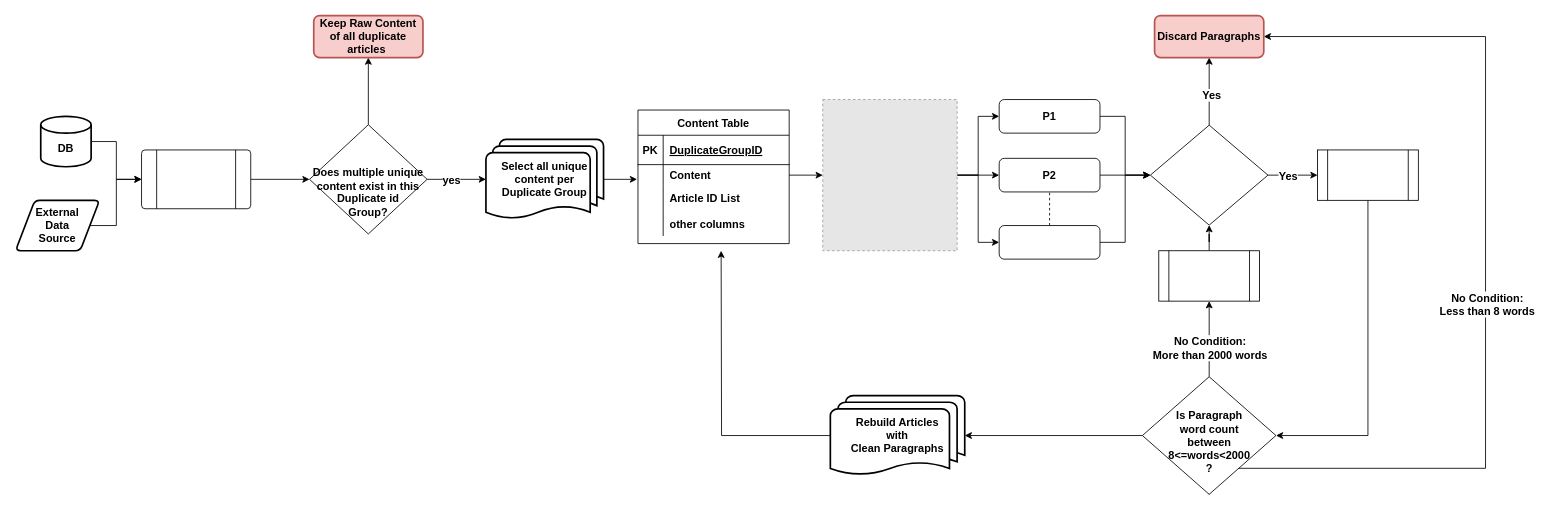
This 1549x516 diagram has some shape labels left out. Grey dashed boxes stand in for pictures. Here are the shapes that lost their labels. From the top down, the centre of each, then its label:
[196,179]: Algorithm to Select Unique Articles per Duplicate Group
[1209,174]: Are paragraphs repeated more than 5 times?
[1367,174]: Algorithm to Remove Improper Sentences
[1049,242]: Pn
[1209,275]: Algorithm to Chunk Larger Paragraphs
